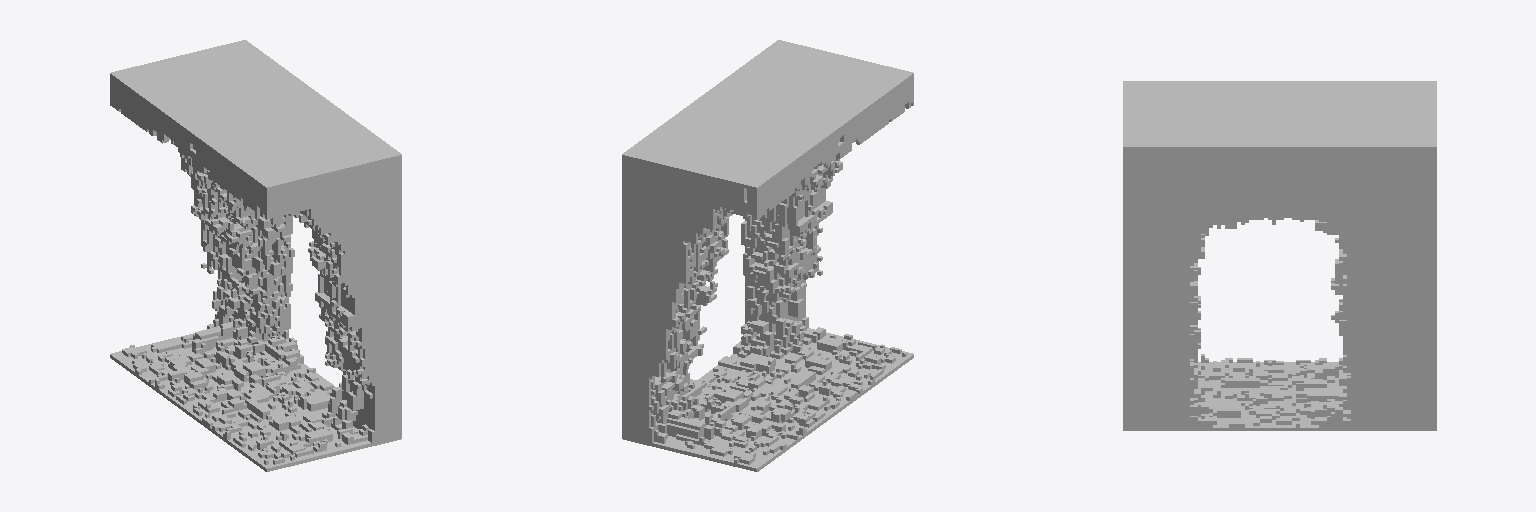
File: rock wall 2.obj
The picture shows the model from 3 angles: view 1: azimuth 30°, elevation 25°; view 2: azimuth 150°, elevation 25°; view 3: azimuth 270°, elevation 25°; orthographic projection.
Parts seen in each view (by area): view 1: rock wall 2; view 2: rock wall 2; view 3: rock wall 2.
Boxes of the visible parts, <box> form: rock wall 2: <box>110,40,401,471</box>; rock wall 2: <box>622,40,913,471</box>; rock wall 2: <box>1123,81,1436,430</box>.
Size of the model in its own units: 40 by 80 by 80.